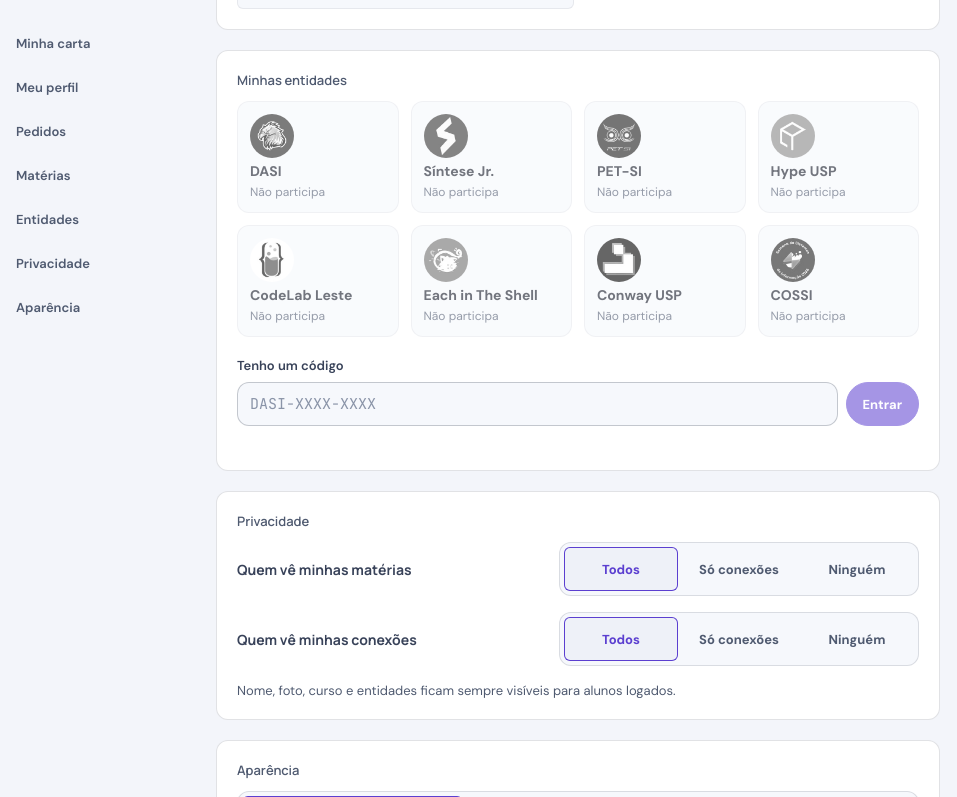
PerfilPage › código inválido mostra erro genérico
(page scrolled)
Type "xxxx" into the field labelled "Tenho um código". click: (537, 404)
box: x1=237 y1=382 x2=838 y2=426
(page scrolled)
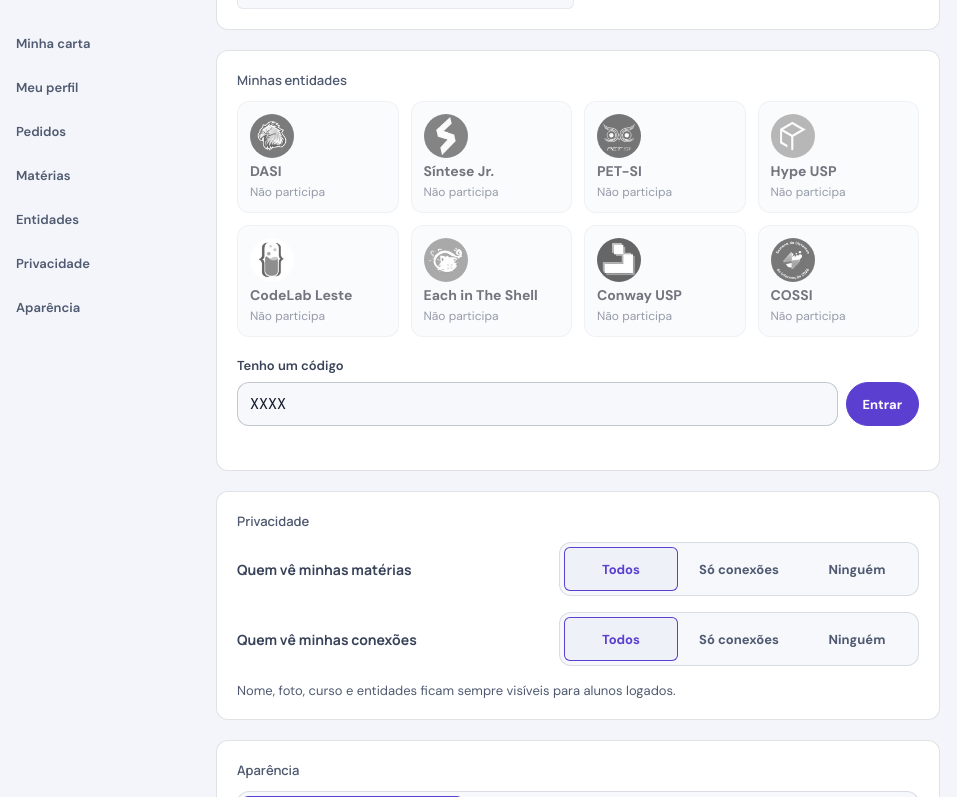
Click the button "Entrar". click: (882, 404)
box: x1=846 y1=382 x2=919 y2=426
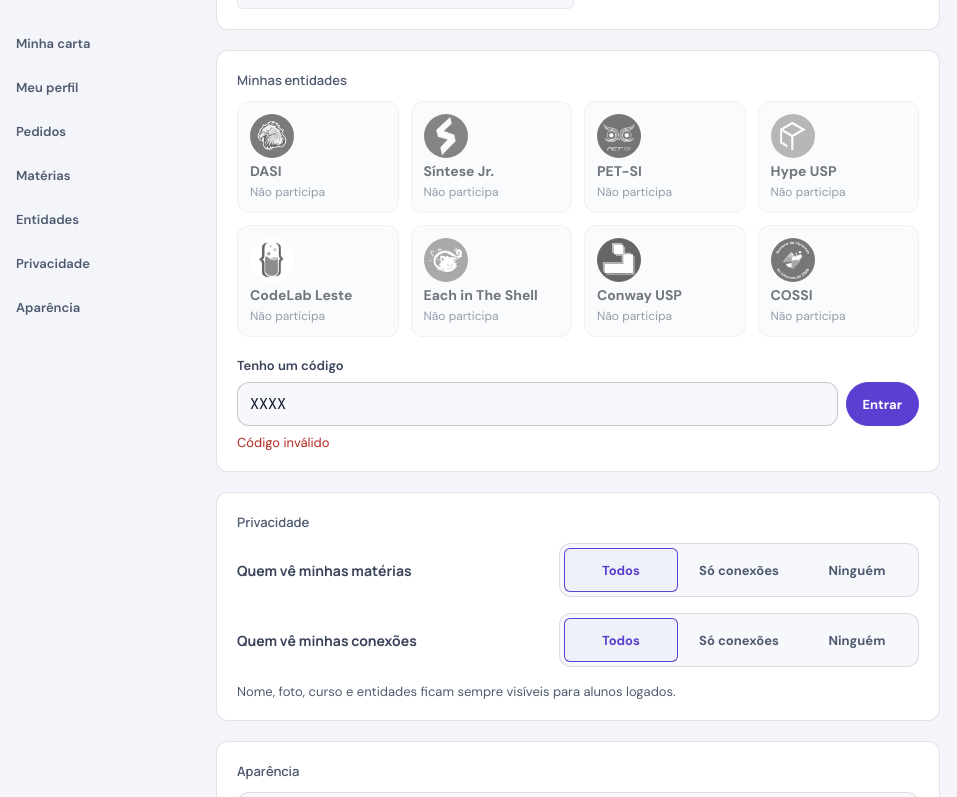
Now the message reads "Código inválido", box x1=237 y1=434 x2=329 y2=451
